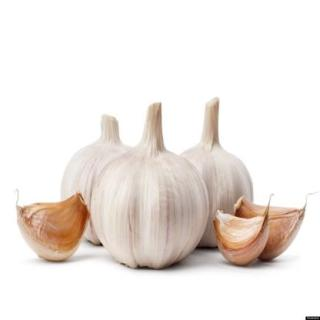Bawang Putih: (91, 137, 213, 272), (177, 97, 255, 250), (60, 115, 138, 247), (17, 194, 91, 263), (233, 196, 308, 263), (214, 210, 271, 268)
